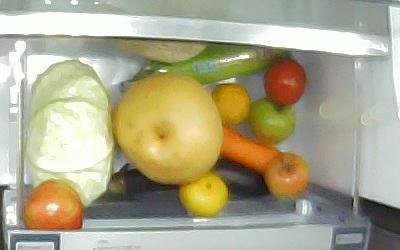cabbage: (27, 59, 114, 207)
carrot: (221, 127, 290, 178)
pear: (116, 75, 223, 184)
prune: (24, 179, 83, 231), (265, 151, 309, 198)
tangerine: (178, 173, 227, 216), (209, 82, 251, 127)
tomato: (252, 97, 297, 143), (263, 58, 306, 105)
zucchini: (118, 46, 291, 89)
